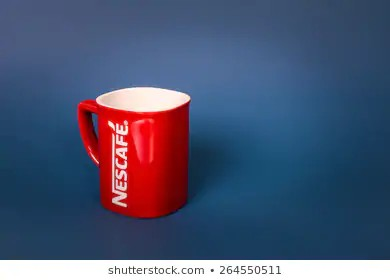nescafe-mug: (74, 87, 195, 218)
